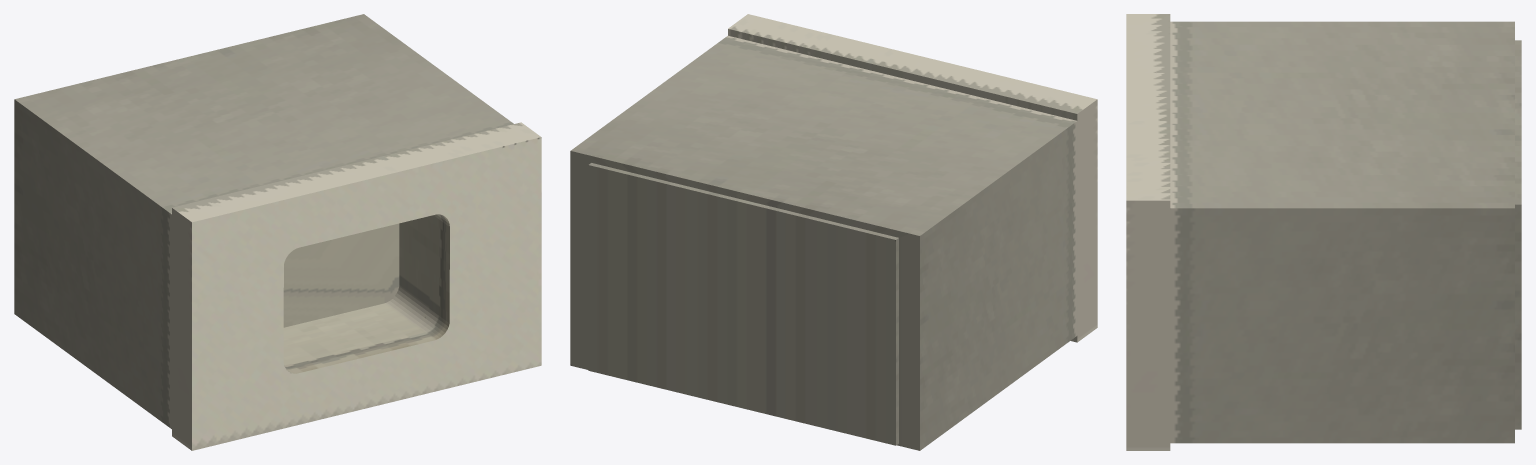
File: pz_counter_white_floor__sink_inset_rect.obj
The picture shows the model from 3 angles, left to right: view 1: azimuth 30°, elevation 25°; view 2: azimuth 150°, elevation 25°; view 3: azimuth 270°, elevation 25°; orthographic projection. The views are drawn at different scales.
Bounding box in the file's own units: 1 × 0.6266 × 0.895.
Materials: 1 (1 with a texture image).
